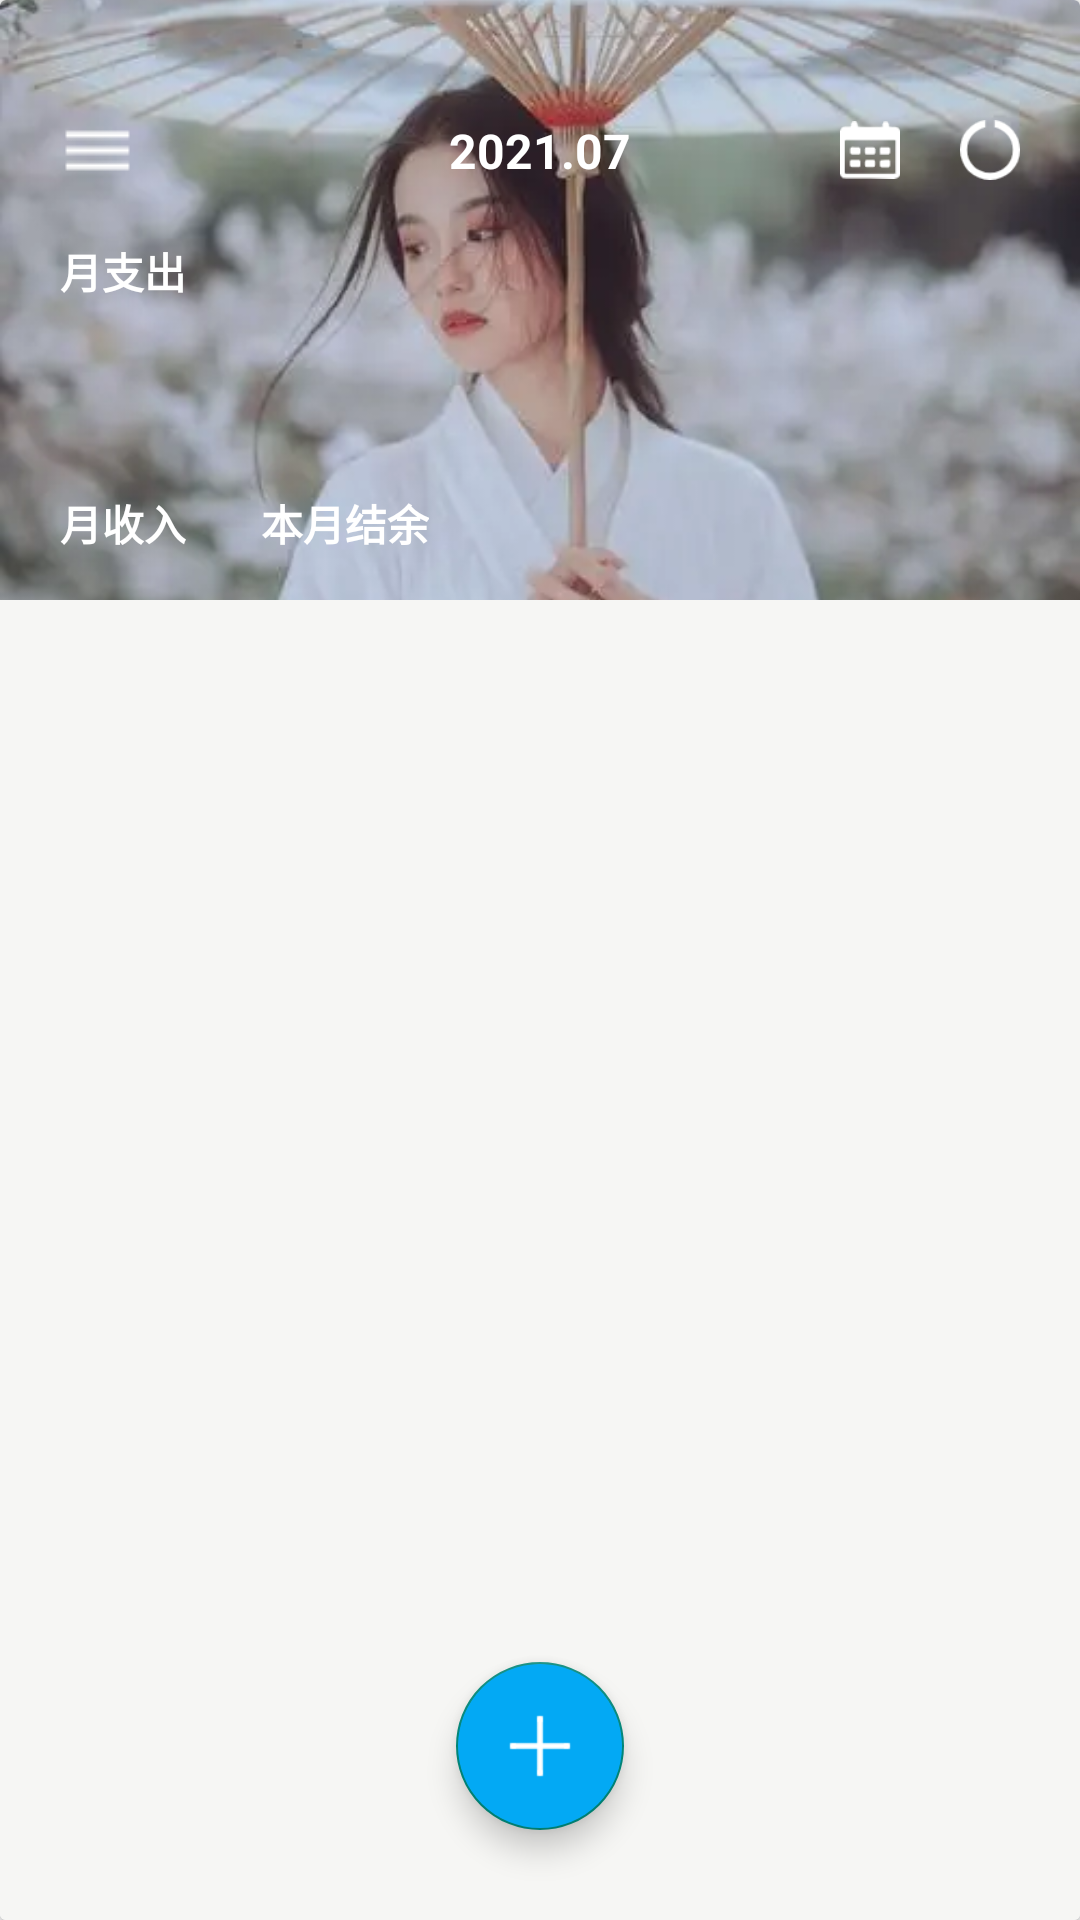

Named icons in this screenshot (1080px x 1920px) and their centers, (x=x, y=y):
caidan: (x=97, y=150)
jia: (x=540, y=1746)
quanquan: (x=990, y=150)
rili: (x=870, y=150)
